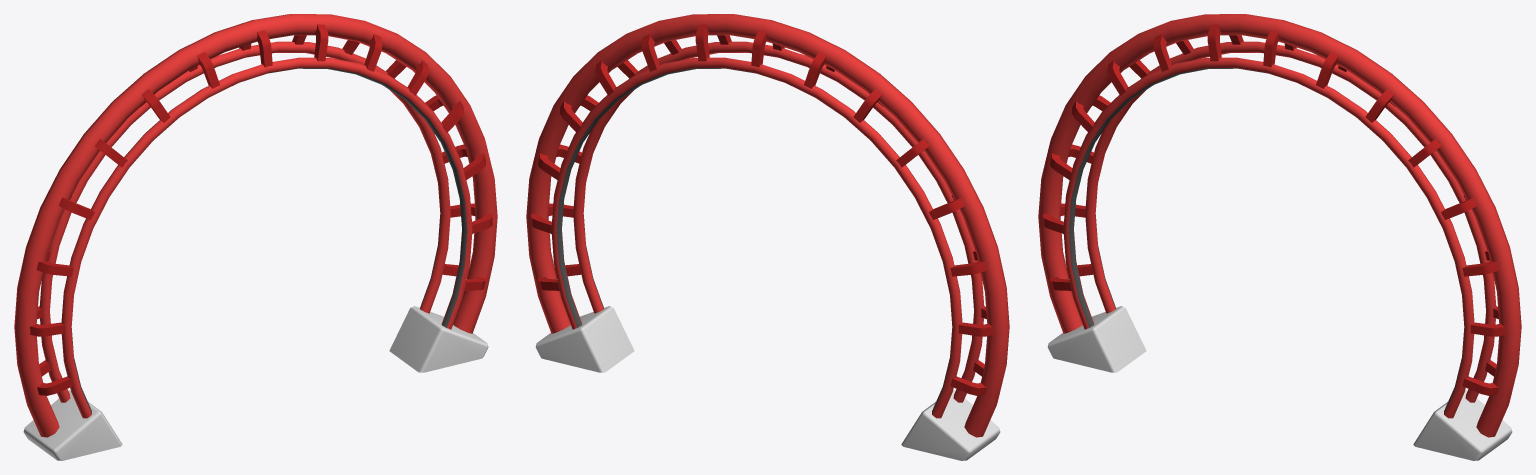
The model's file is decoration_002.gltf.
3 views of the same model, side by side, from view 1: azimuth 30°, elevation 25°; view 2: azimuth 150°, elevation 25°; view 3: azimuth 330°, elevation 25° (orthographic).
Parts seen in each view (by area): view 1: decoration_002; view 2: decoration_002; view 3: decoration_002.
Boxes of the visible parts, x1,y1,x2,y2 form: decoration_002: (14,14,497,460); decoration_002: (526,14,1009,460); decoration_002: (1038,14,1521,460).
Size of the model in its own units: 16.36 by 12.27 by 1.93.
Materials: 1 (1 with a texture image).
